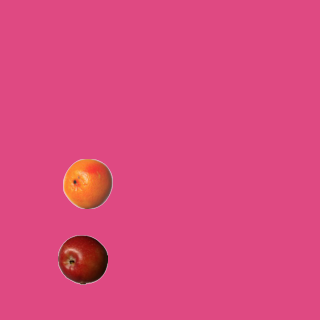Apple Braeburn: (57, 234, 107, 284)
Grapefruit Pink: (62, 158, 112, 208)
